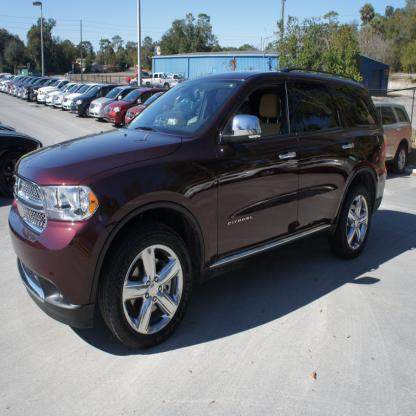Vehicle: (7, 66, 388, 351)
